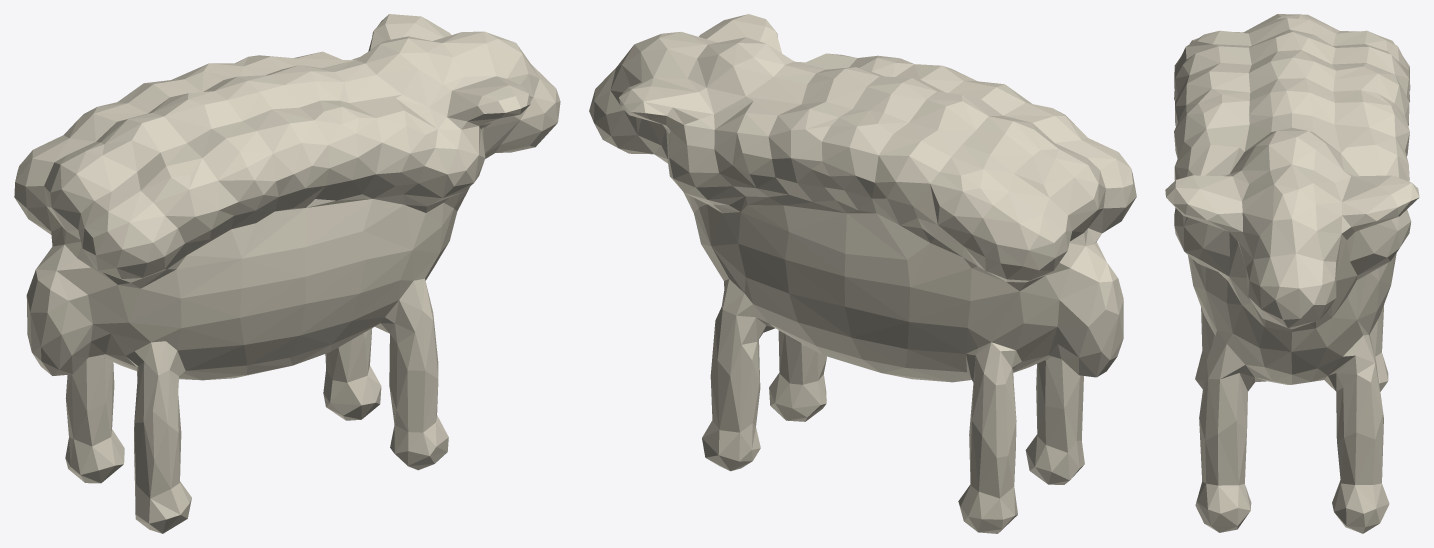
The model's file is NEW_RECOVERY_018_LOD1.fbx.
3 renders of one model, left to right at view 1: azimuth 30°, elevation 25°; view 2: azimuth 150°, elevation 25°; view 3: azimuth 270°, elevation 25°, orthographic. The views are drawn at different scales.
Parts seen in each view (by area): view 1: Sheep_solid; view 2: Sheep_solid; view 3: Sheep_solid.
Boxes of the visible parts, x1,y1,x2,y2 form: Sheep_solid: (14,14,560,533); Sheep_solid: (589,14,1136,533); Sheep_solid: (1165,14,1419,533).
Bounding box in the file's own units: 261 × 108 × 190.
